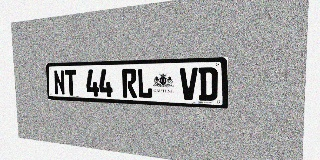4: (99, 69, 113, 97), (86, 69, 99, 97)
D: (198, 67, 218, 101)
L: (137, 68, 153, 99)
N: (53, 70, 65, 95)
R: (122, 69, 137, 98)
T: (65, 70, 77, 96)
V: (180, 67, 198, 100)
